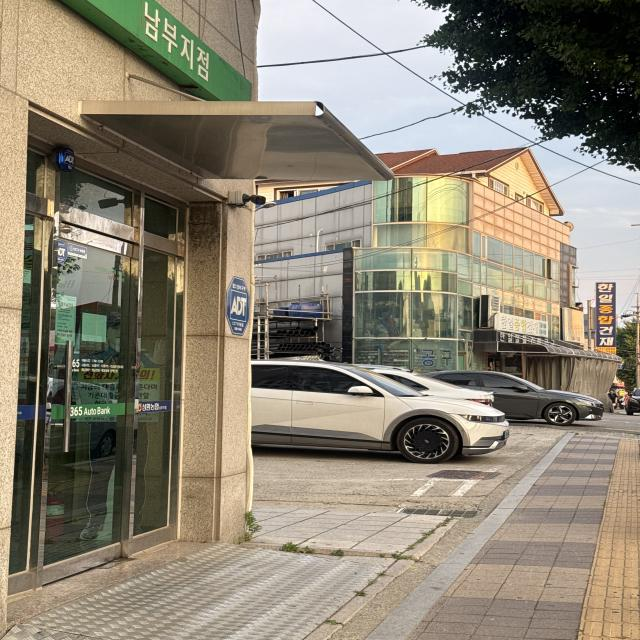car: (253, 359, 488, 465), (438, 369, 600, 426)
